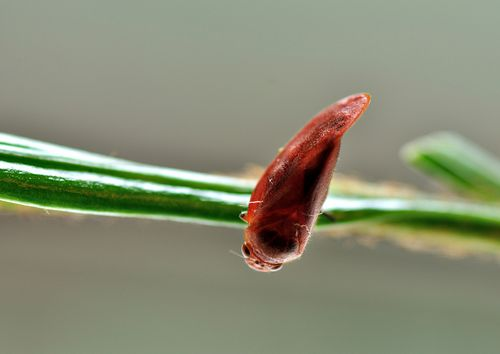Cicadellidae: (235, 91, 372, 273)
